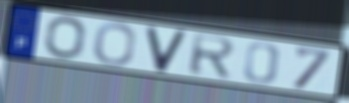0: (242, 41, 283, 85)
7: (292, 44, 333, 92)
O: (91, 21, 138, 67), (44, 15, 88, 61)
R: (187, 32, 238, 80)
V: (144, 25, 190, 75)
